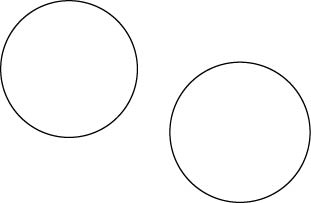circulo: (169, 61, 311, 203), (1, 1, 139, 138)
